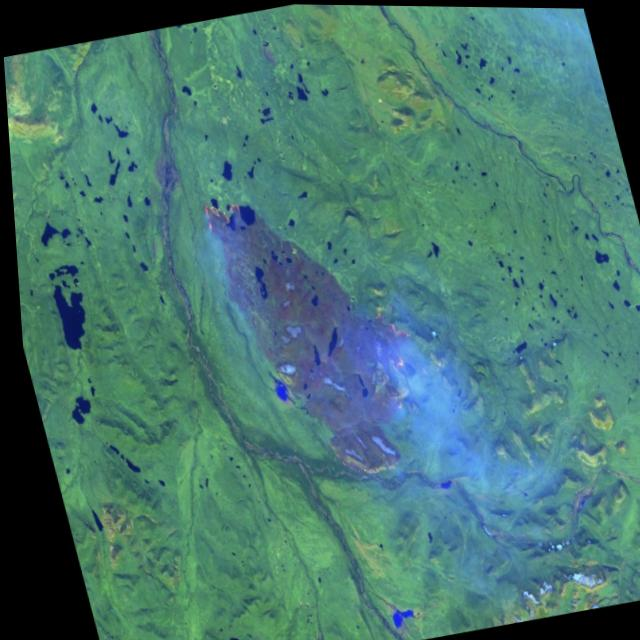fire: (358, 297, 423, 415), (192, 186, 245, 242)
